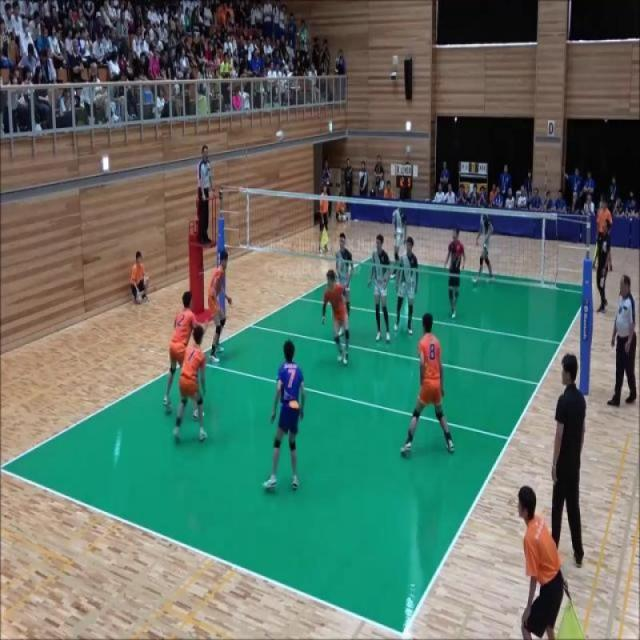volleyball: (276, 128, 284, 144)
